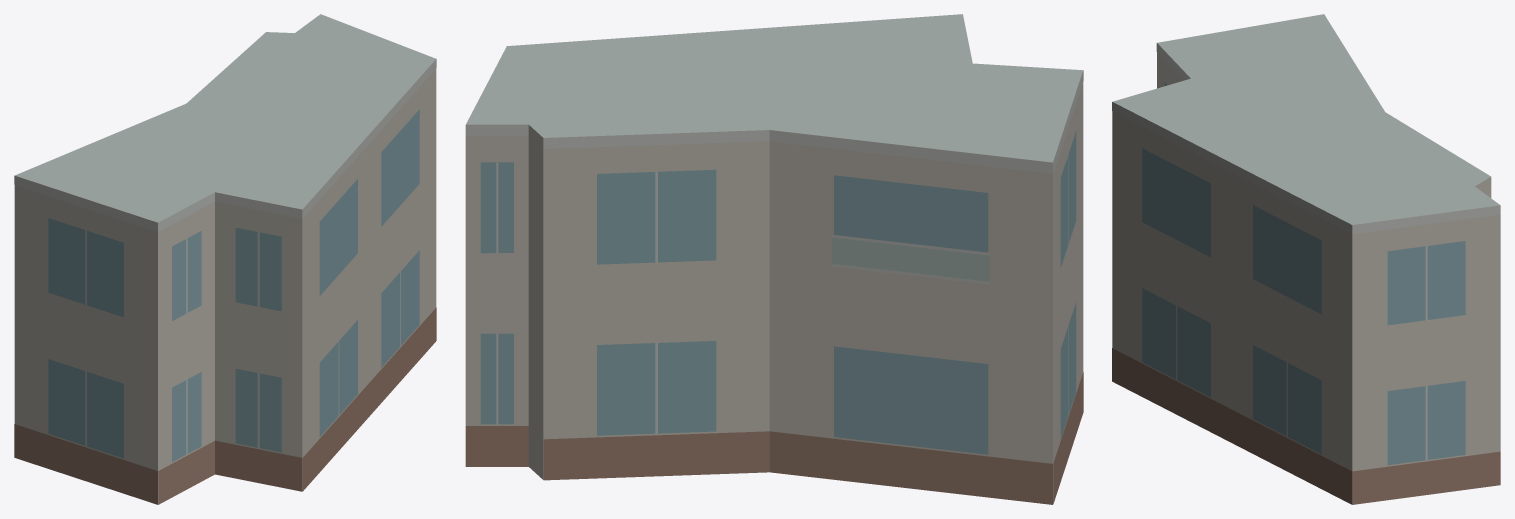
The model's file is survey-upis-33032437.glb.
The picture shows the model from 3 angles, left to right: view 1: azimuth 30°, elevation 25°; view 2: azimuth 150°, elevation 25°; view 3: azimuth 270°, elevation 25°; orthographic projection. The views are drawn at different scales.
Parts seen in each view (by area): view 1: survey-upis-33032437.tmp; view 2: survey-upis-33032437.tmp; view 3: survey-upis-33032437.tmp.
Part boxes in pixels (<box>): survey-upis-33032437.tmp: <box>14,14,436,504</box>; survey-upis-33032437.tmp: <box>465,14,1083,504</box>; survey-upis-33032437.tmp: <box>1112,14,1500,504</box>.
Bounding box in the file's own units: 12.08 × 7.46 × 9.4.
